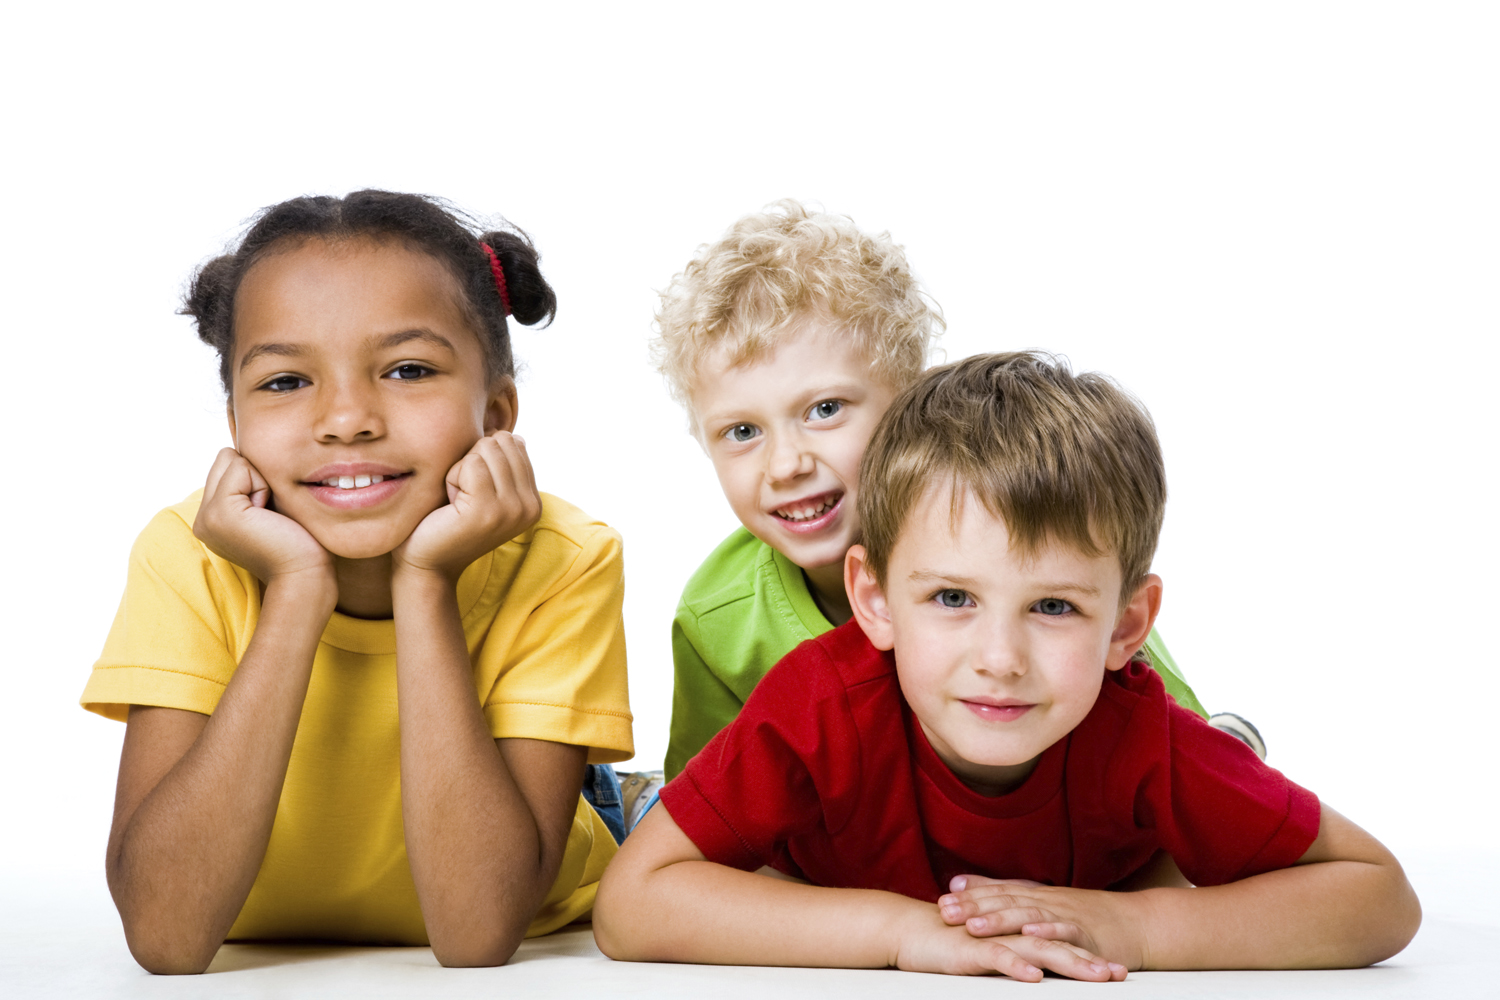human: (581, 340, 1432, 983), (75, 181, 644, 972), (646, 191, 988, 726)
